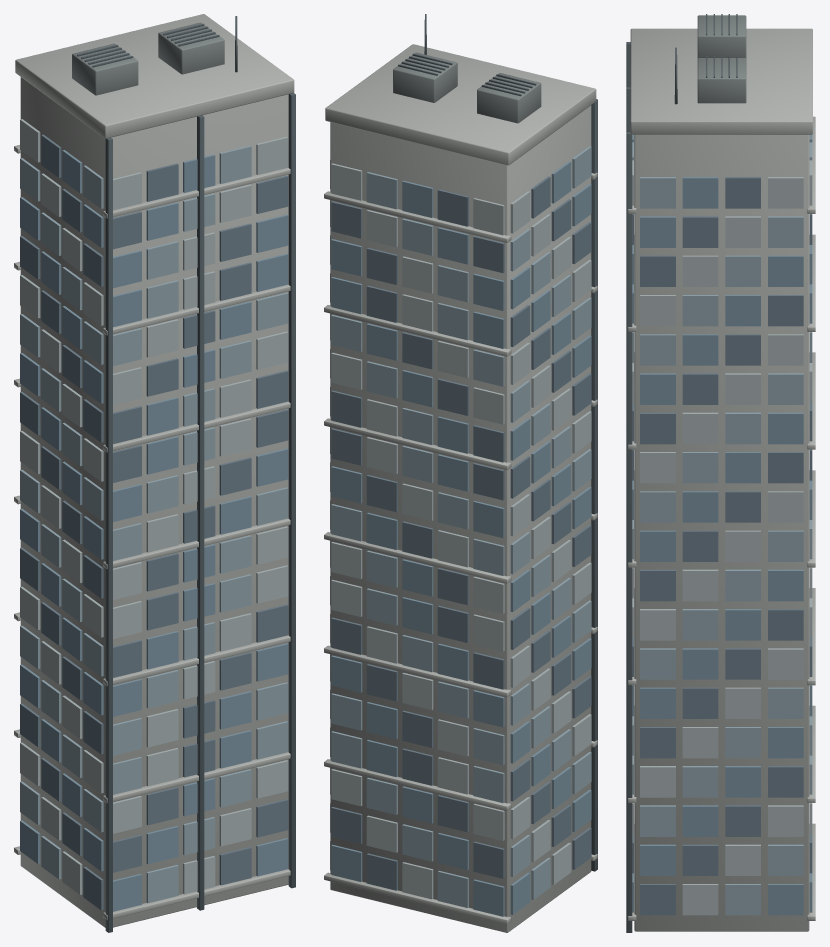
Rendered from stone-tower-v1.glb.
3 renders of one model, left to right at view 1: azimuth 30°, elevation 25°; view 2: azimuth 150°, elevation 25°; view 3: azimuth 270°, elevation 25°, orthographic. The views are drawn at different scales.
Visible parts, largest first — view 1: Tower core; view 2: Tower core; view 3: Tower core.
Boxes of the visible parts, left/top/right/bottom form: Tower core: left=14, top=14, right=295, bottom=932; Tower core: left=324, top=14, right=597, bottom=932; Tower core: left=626, top=14, right=815, bottom=932.
Bounding box in the file's own units: 1.45 × 6.3 × 1.25.
